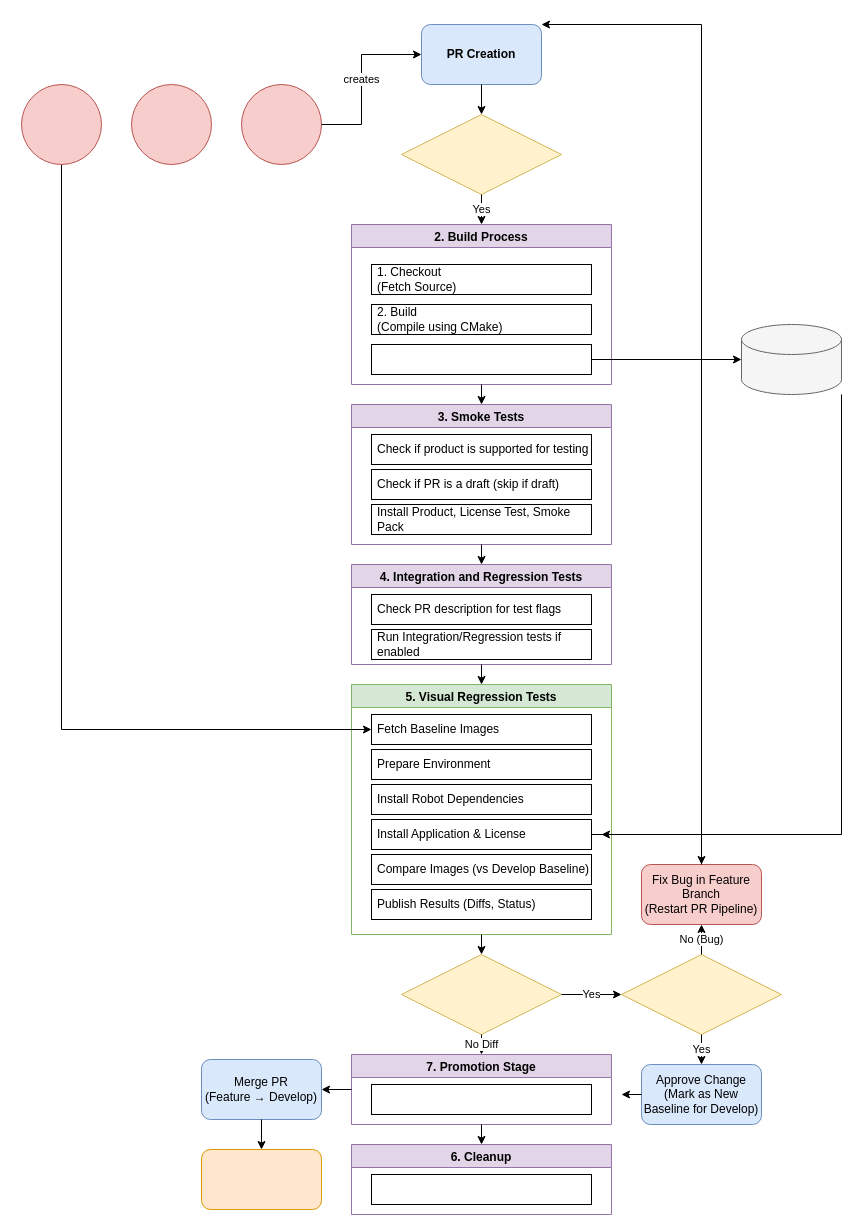
This 867x1232 diagram has some shape labels left out. Here are the shapes that lost their labels. From the top down, the centre of each, then its label:
pixel 61 124: Develop Branch(Baseline Image)
pixel 171 124: Feature
pixel 281 124: PR branch
pixel 481 154: Pipeline Trigger (Branch name starts with PR-)
pixel 481 359: 3. Upload (Build artifacts to Artifactory)
pixel 791 359: Artifact Store (Artifactory)
pixel 481 994: Visual Differences?
pixel 701 994: Intentional Change?
pixel 481 1099: If develop/release/* branch, trigger downstream jobs
pixel 261 1179: Update Baseline Images (Develop Branch)
pixel 481 1189: Deallocate Azure VM instances, cleanup resources
